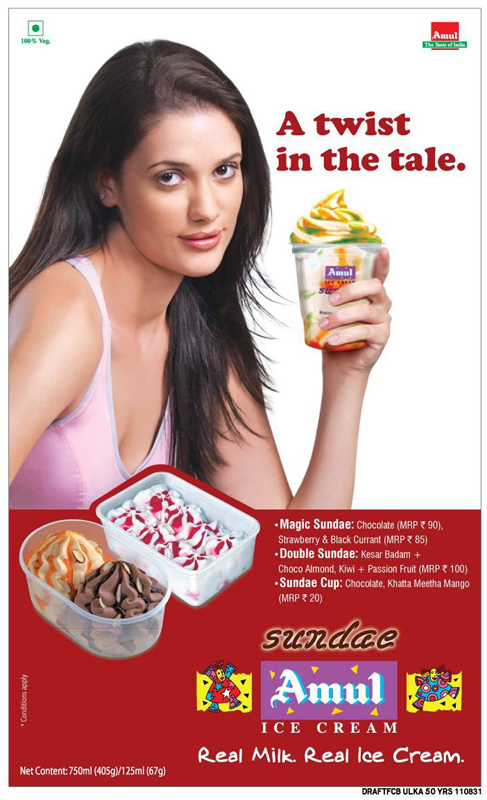Amul: (261, 666, 389, 715)
